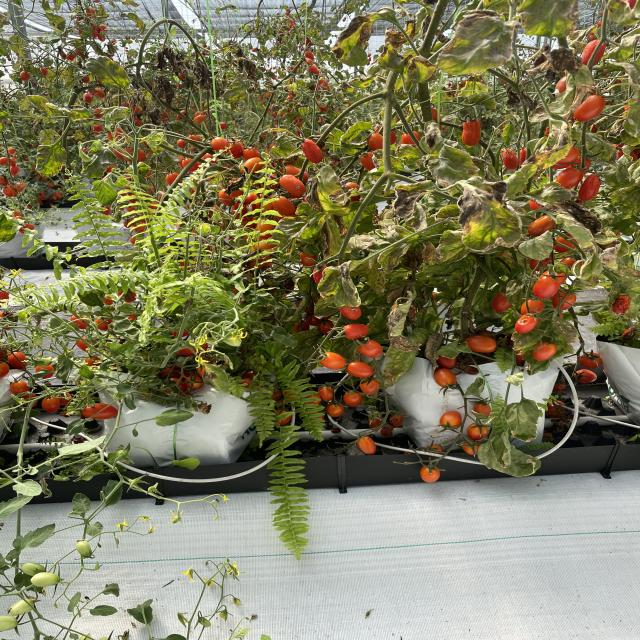Soilbag: (357, 332, 567, 464), (88, 353, 267, 466)
plant: (98, 107, 270, 353), (394, 122, 535, 332)
